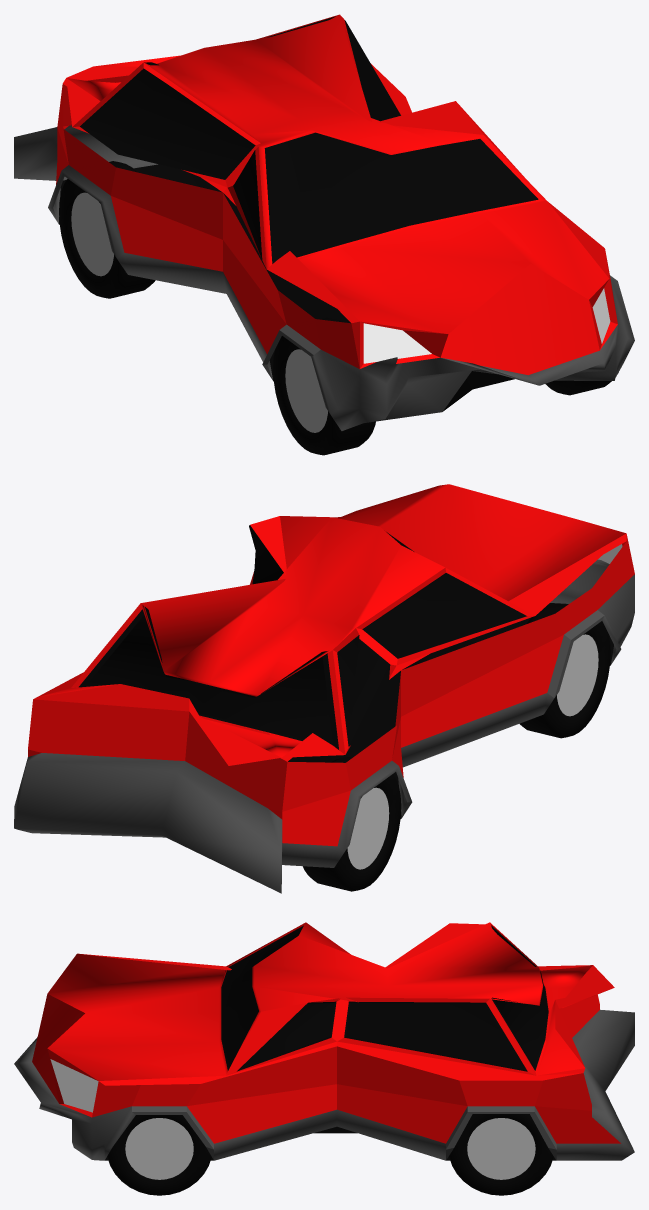
File: Broken.fbx
The picture shows the model from 3 angles, top to bottom: view 1: azimuth 30°, elevation 25°; view 2: azimuth 150°, elevation 25°; view 3: azimuth 270°, elevation 25°; orthographic projection. The views are drawn at different scales.
Visible parts, largest first — view 1: Car; view 2: Car; view 3: Car.
Part boxes in pixels (x1=…): Car: x1=14, y1=14, x2=634, y2=455; Car: x1=14, y1=484, x2=634, y2=893; Car: x1=14, y1=922, x2=634, y2=1195.
Bounding box in the file's own units: 210 × 155 × 465.
